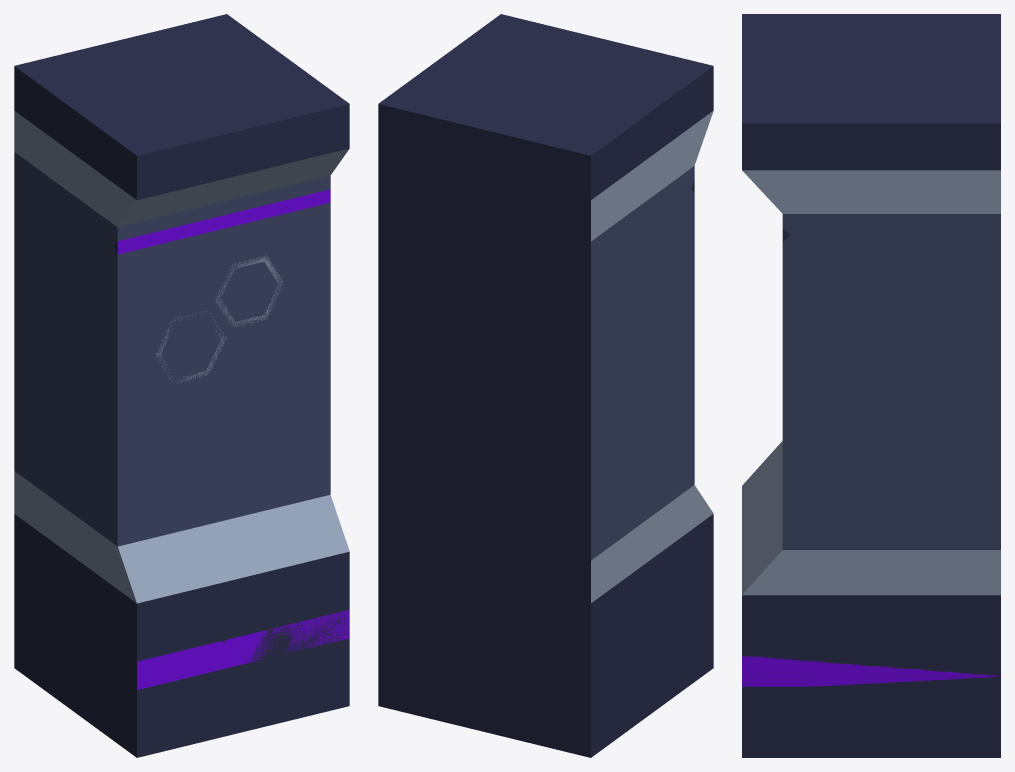
The model's file is darkWallVarients.fbx.
The picture shows the model from 3 angles, left to right: view 1: azimuth 30°, elevation 25°; view 2: azimuth 150°, elevation 25°; view 3: azimuth 270°, elevation 25°; orthographic projection. The views are drawn at different scales.
Parts seen in each view (by area): view 1: darkWallCorner, darkWall2, darkWall1, darkWall1.4; view 2: darkWallCorner, darkWall1; view 3: darkWall1, darkWallCorner, darkWall1.4.
Boxes of the visible parts, bbox=[...] form: darkWallCorner: bbox=[14, 14, 349, 757]; darkWall2: bbox=[119, 190, 349, 704]; darkWall1: bbox=[119, 148, 349, 550]; darkWall1.4: bbox=[119, 204, 348, 551]; darkWallCorner: bbox=[378, 14, 713, 757]; darkWall1: bbox=[378, 148, 590, 756]; darkWall1: bbox=[742, 170, 1000, 757]; darkWallCorner: bbox=[742, 14, 1000, 757]; darkWall1.4: bbox=[743, 446, 782, 592].
Bounding box in the file's own units: 200 × 541 × 200.
